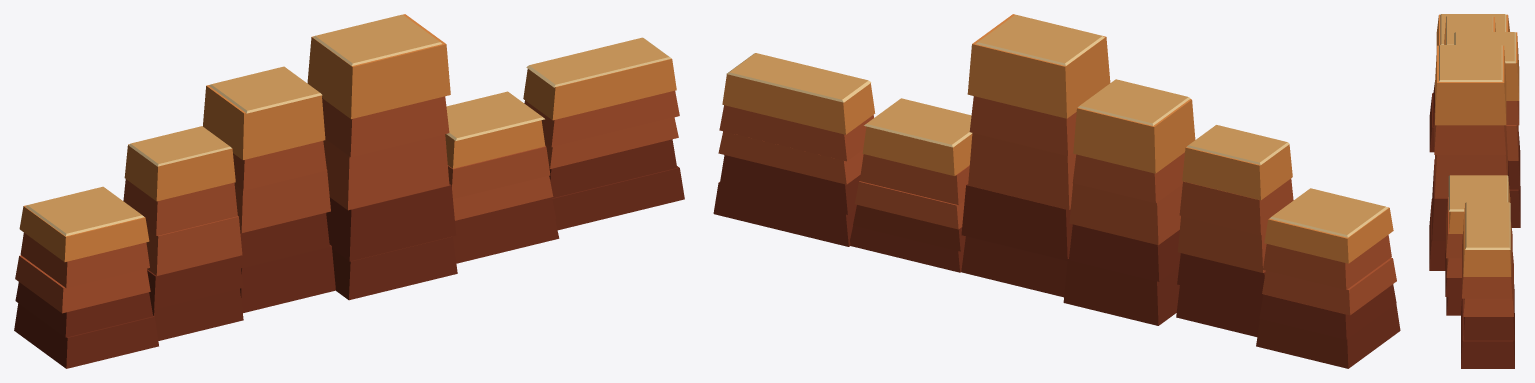
File: W5_Far_Mesas.fbx
3 views of the same model, side by side, from view 1: azimuth 30°, elevation 25°; view 2: azimuth 150°, elevation 25°; view 3: azimuth 270°, elevation 25° (orthographic). The views are drawn at different scales.
Parts seen in each view (by area): view 1: W5_Far_Mesas; view 2: W5_Far_Mesas; view 3: W5_Far_Mesas.
Part boxes in pixels (x1,y1,x2,y2): W5_Far_Mesas: (14,14,684,368); W5_Far_Mesas: (713,14,1400,368); W5_Far_Mesas: (1429,14,1520,368).
Size of the model in its own units: 415 by 143 by 63.33.
